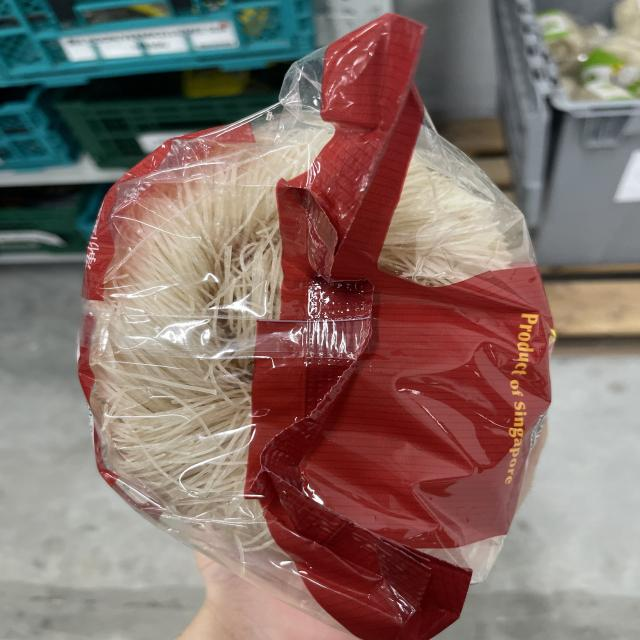object_name: (117, 145, 517, 553)
